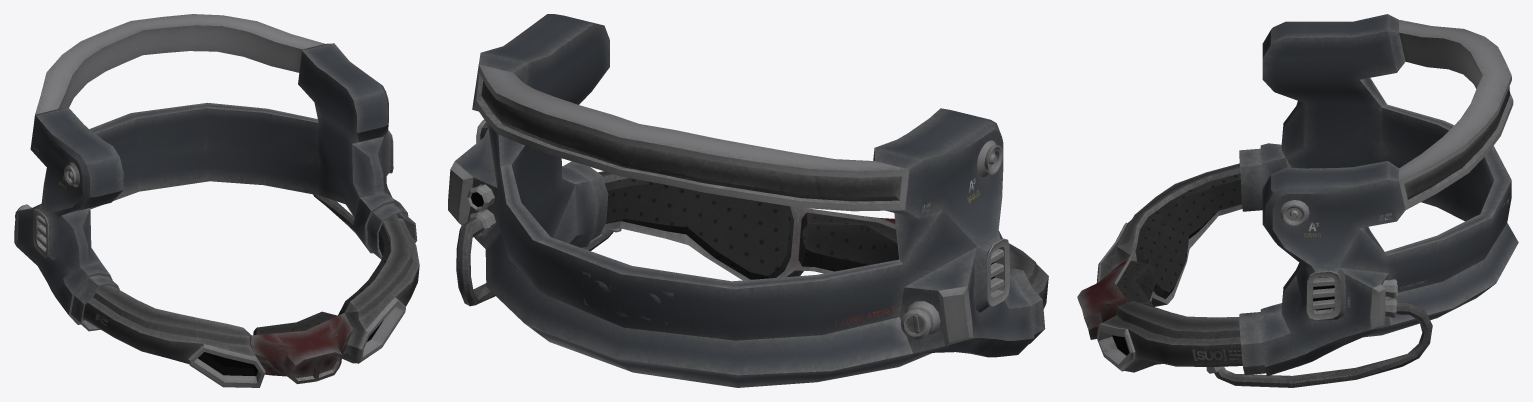
The model's file is suo-headbrace.glb.
3 views of the same model, side by side, from view 1: azimuth 30°, elevation 25°; view 2: azimuth 150°, elevation 25°; view 3: azimuth 270°, elevation 25° (orthographic). The views are drawn at different scales.
Parts seen in each view (by area): view 1: Combined; view 2: Combined; view 3: Combined.
Part boxes in pixels (x1,y1,x2,y2): Combined: (14,14,419,387); Combined: (448,14,1048,387); Combined: (1077,14,1518,387).
Size of the model in its own units: 1.43 by 0.8858 by 1.36.
Materials: 1 (1 with a texture image).
